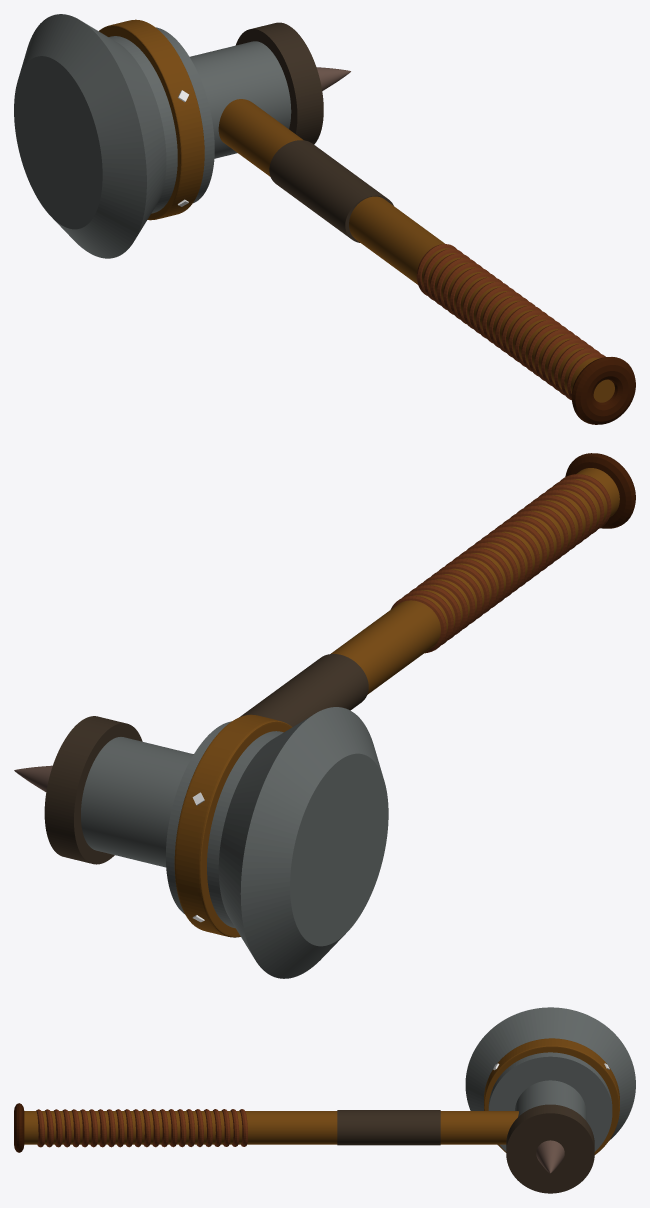
File: hammer 1.fbx
The picture shows the model from 3 angles, top to bottom: view 1: azimuth 30°, elevation 25°; view 2: azimuth 150°, elevation 25°; view 3: azimuth 270°, elevation 25°; orthographic projection. The views are drawn at different scales.
Parts seen in each view (by area): view 1: Cylinder, Cylinder.005, Torus.001, Cylinder.002, Cylinder.001, Cylinder.007, Cylinder.003, Cylinder.004, Torus; view 2: Cylinder, Torus.001, Cylinder.001, Cylinder.005, Cylinder.002, Cylinder.003, Cylinder.007, Cylinder.004, Torus; view 3: Cylinder.005, Cylinder, Torus.001, Cylinder.003, Cylinder.004, Cylinder.007, Cylinder.002, Cylinder.001, Cylinder.006, Torus.
Part boxes in pixels (<box>): Cylinder: <box>14,14,166,258</box>; Cylinder.005: <box>218,99,614,402</box>; Torus.001: <box>416,244,605,400</box>; Cylinder.002: <box>99,19,204,220</box>; Cylinder.001: <box>190,41,291,158</box>; Cylinder.007: <box>269,140,393,242</box>; Cylinder.003: <box>235,22,323,144</box>; Cylinder.004: <box>109,27,214,213</box>; Torus: <box>571,357,635,424</box>; Cylinder: <box>218,707,388,978</box>; Torus.001: <box>390,474,611,653</box>; Cylinder.001: <box>81,737,193,867</box>; Cylinder.005: <box>331,468,619,694</box>; Cylinder.002: <box>174,714,292,937</box>; Cylinder.003: <box>44,716,142,864</box>; Cylinder.007: <box>240,654,368,726</box>; Cylinder.004: <box>166,721,283,928</box>; Torus: <box>565,453,635,528</box>; Cylinder.005: <box>24,1111,518,1144</box>; Cylinder: <box>465,1007,635,1144</box>; Torus.001: <box>36,1109,247,1147</box>; Cylinder.003: <box>506,1104,594,1193</box>; Cylinder.004: <box>488,1052,612,1151</box>; Cylinder.007: <box>337,1110,440,1145</box>; Cylinder.002: <box>484,1038,619,1154</box>; Cylinder.001: <box>515,1080,586,1120</box>; Cylinder.006: <box>536,1140,564,1173</box>; Torus: <box>14,1103,24,1152</box>.
Bounding box in the file's own units: 336 × 249 × 908.
